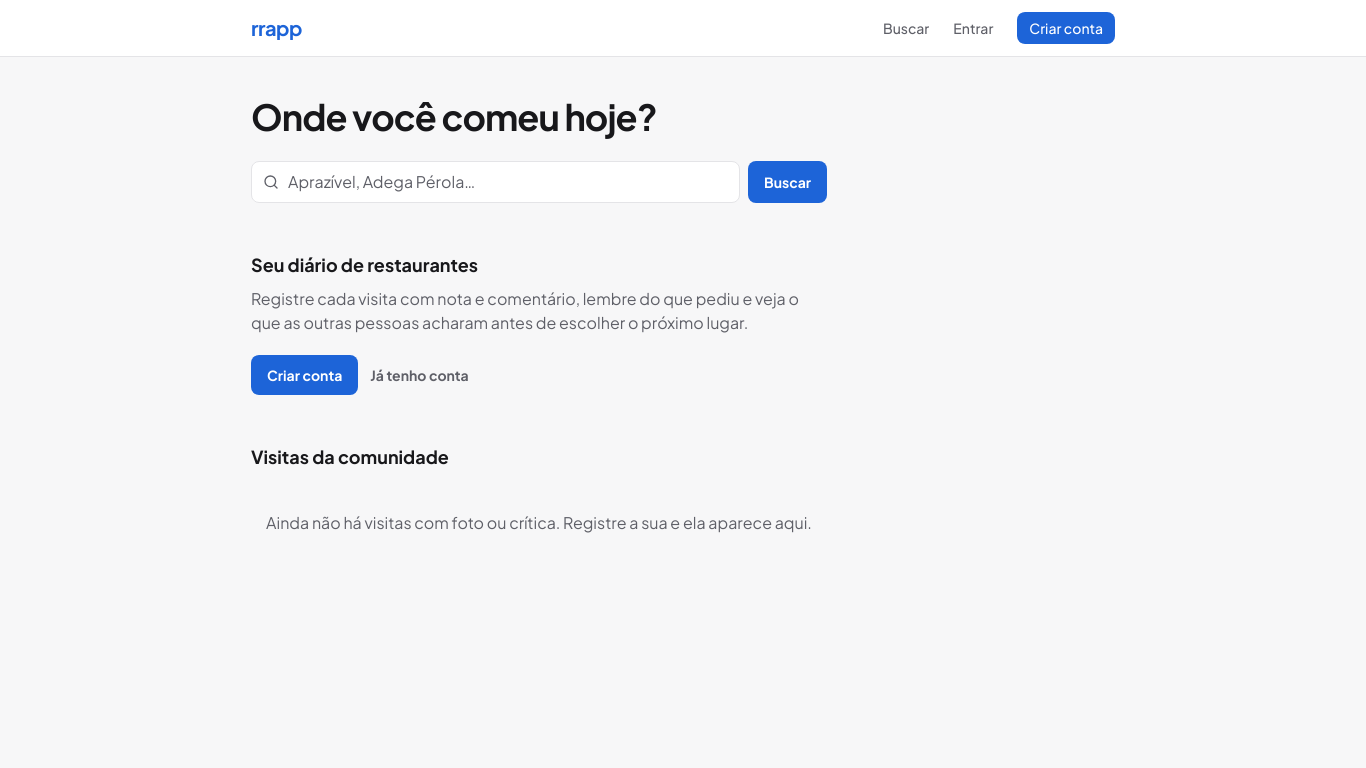
Test: buscar leva para a página de busca
Type "aprazível" into the search field named "Buscar restaurante".
click(496, 182); type("aprazível")  # box [251,161,740,203]
Then press Enter
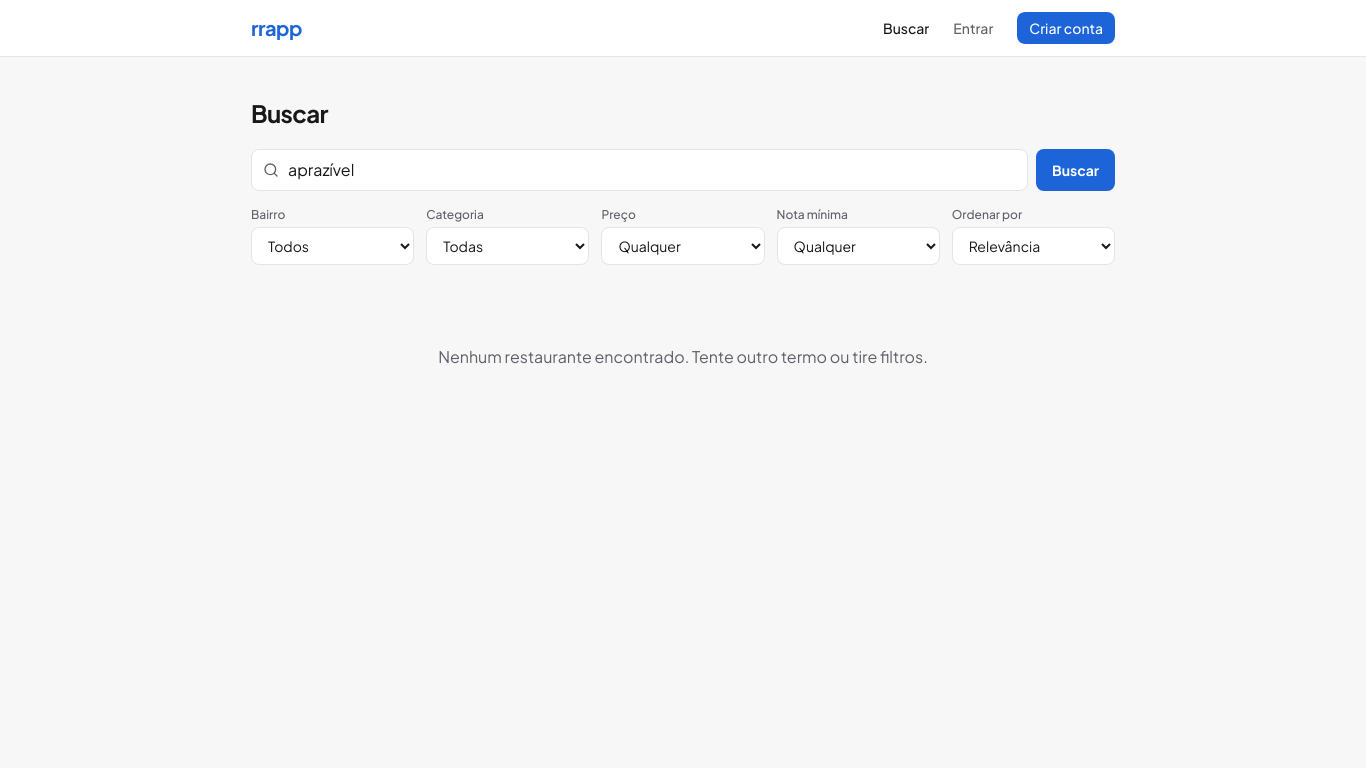
Result: the heading "Buscar" is shown at [251,98,328,128]
Result: the search field named "Buscar restaurante" holds "aprazível" at [251,149,1028,191]
Result: the text "Nenhum restaurante encontrado. Tente outro termo ou tire filtros." is shown at [438,346,928,367]
